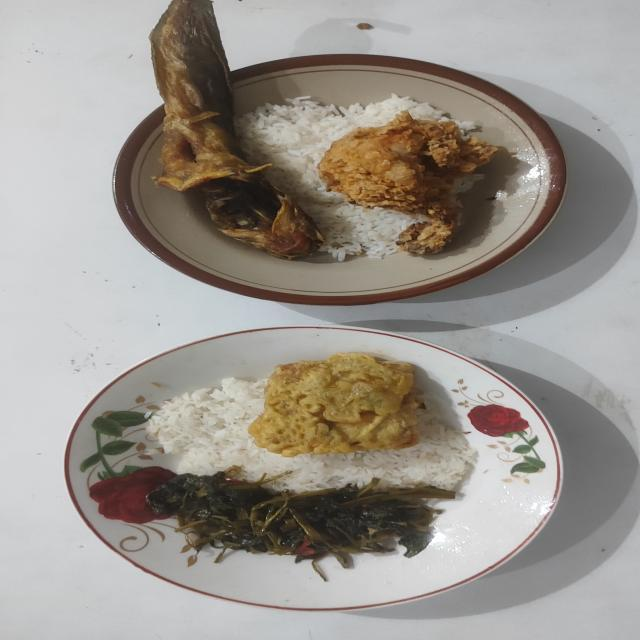nasi_putih: (146, 378, 478, 492), (236, 96, 441, 262)
tumis_kangkung: (146, 472, 455, 581)
